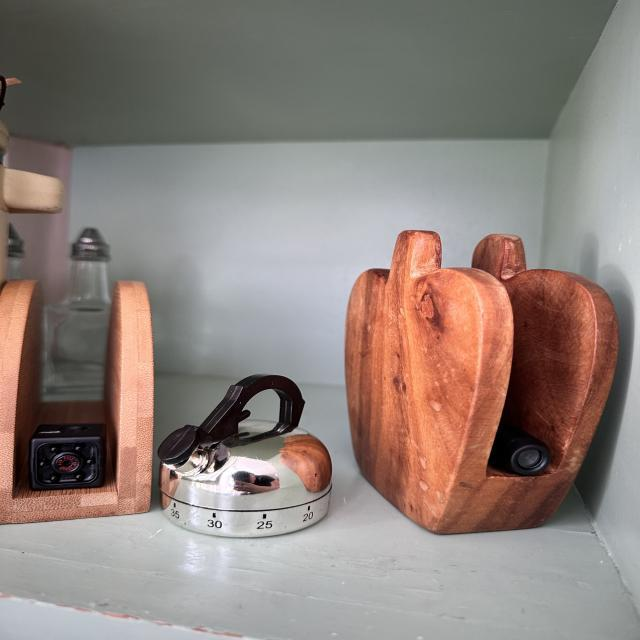hidden camera: (513, 444, 550, 474), (55, 455, 80, 471)
